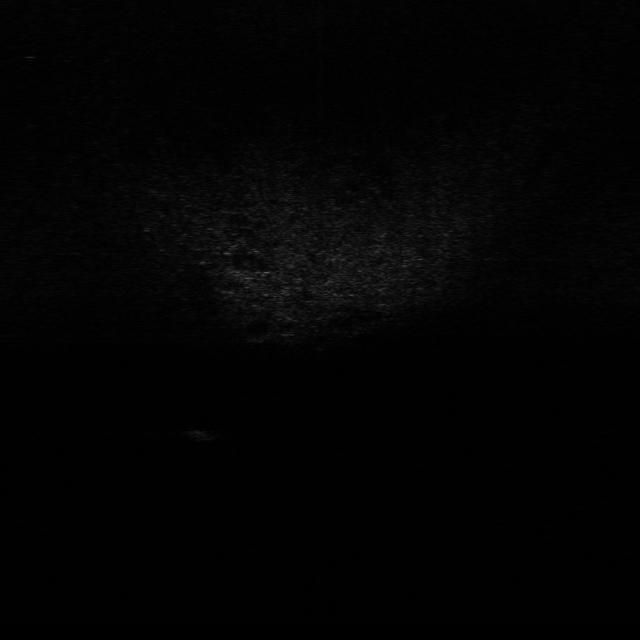cube: (181, 421, 223, 445)
